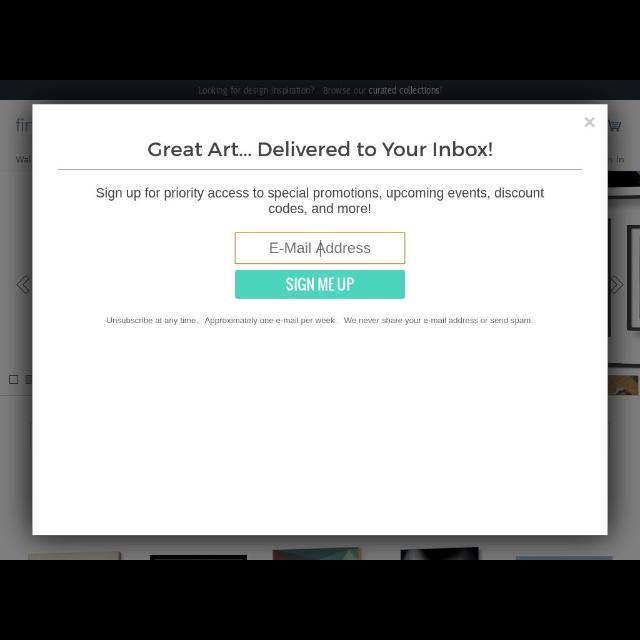button: (582, 115, 598, 131)
icon: (610, 275, 624, 295), (15, 276, 30, 294), (582, 116, 598, 130), (608, 120, 622, 132)
input: (234, 230, 406, 266)
panel: (31, 103, 609, 534)
text: (94, 185, 546, 217), (147, 141, 495, 161), (104, 316, 534, 328), (268, 241, 370, 257), (323, 86, 443, 96), (198, 86, 314, 96), (284, 276, 354, 292), (616, 154, 624, 164)
textbutton: (234, 270, 406, 300)
